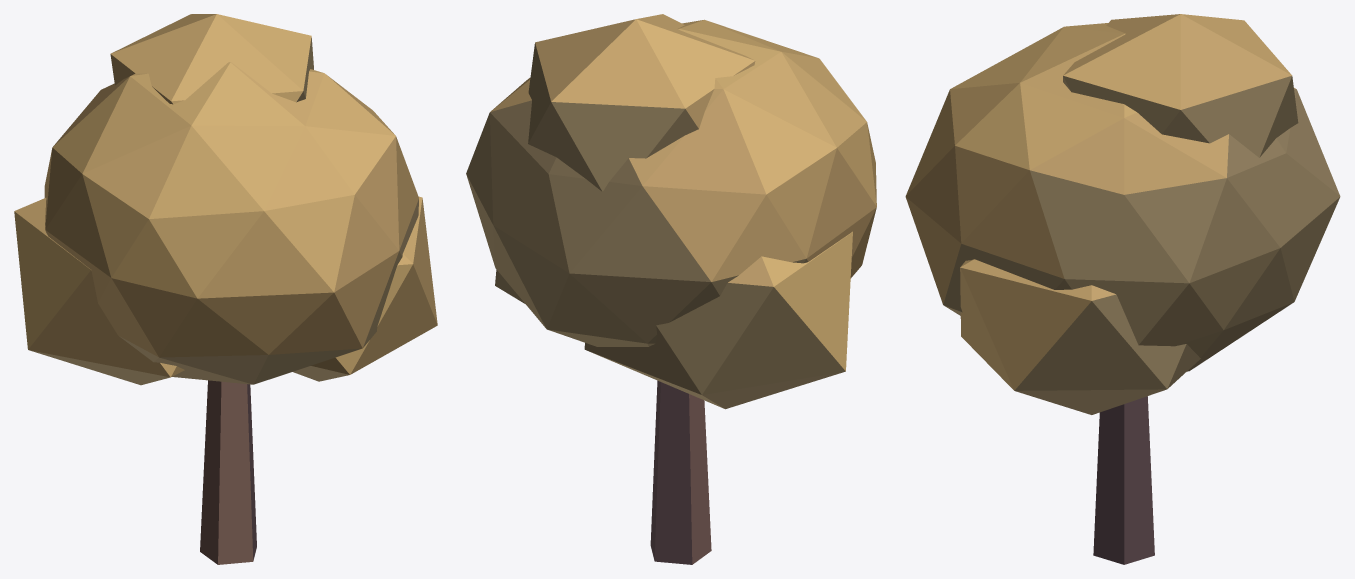
File: tree_autumn.glb
3 views of the same model, side by side, from view 1: azimuth 30°, elevation 25°; view 2: azimuth 150°, elevation 25°; view 3: azimuth 270°, elevation 25° (orthographic). The views are drawn at different scales.
Parts seen in each view (by area): view 1: tree_autumn; view 2: tree_autumn; view 3: tree_autumn.
Boxes of the visible parts, box(x1,y1,x2,y2) form: tree_autumn: box(14, 14, 437, 564); tree_autumn: box(466, 14, 876, 564); tree_autumn: box(905, 14, 1340, 564).
Size of the model in its own units: 2.68 by 3.71 by 2.69.
